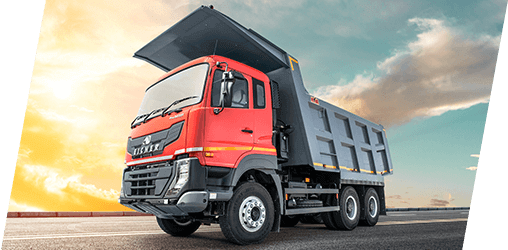truck: (120, 30, 396, 209)
